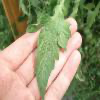Tomato mold leaf: (26, 9, 68, 100)
